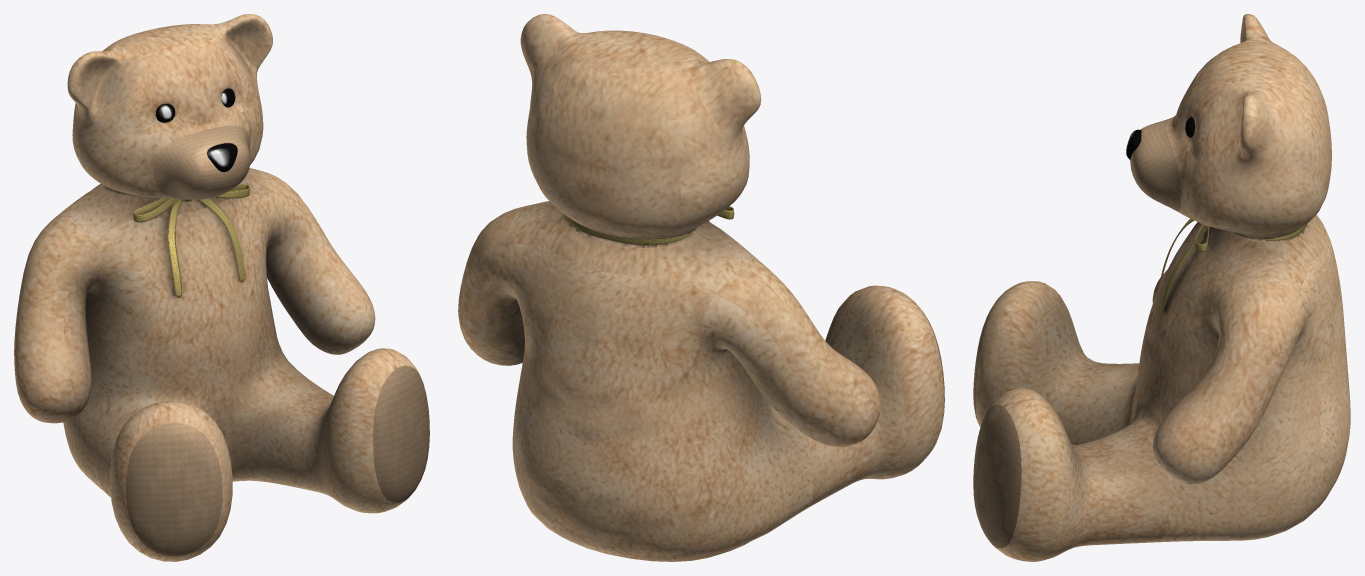
Rendered from oso.obj.
3 renders of one model, left to right at view 1: azimuth 30°, elevation 25°; view 2: azimuth 150°, elevation 25°; view 3: azimuth 270°, elevation 25°, orthographic. The views are drawn at different scales.
Parts seen in each view (by area): view 1: teddy3; view 2: teddy3; view 3: teddy3.
Part boxes in pixels (<box>): teddy3: <box>14,14,429,561</box>; teddy3: <box>458,14,944,561</box>; teddy3: <box>973,14,1350,561</box>.
Bounding box in the file's own units: 1.42 × 1.68 × 1.26.
